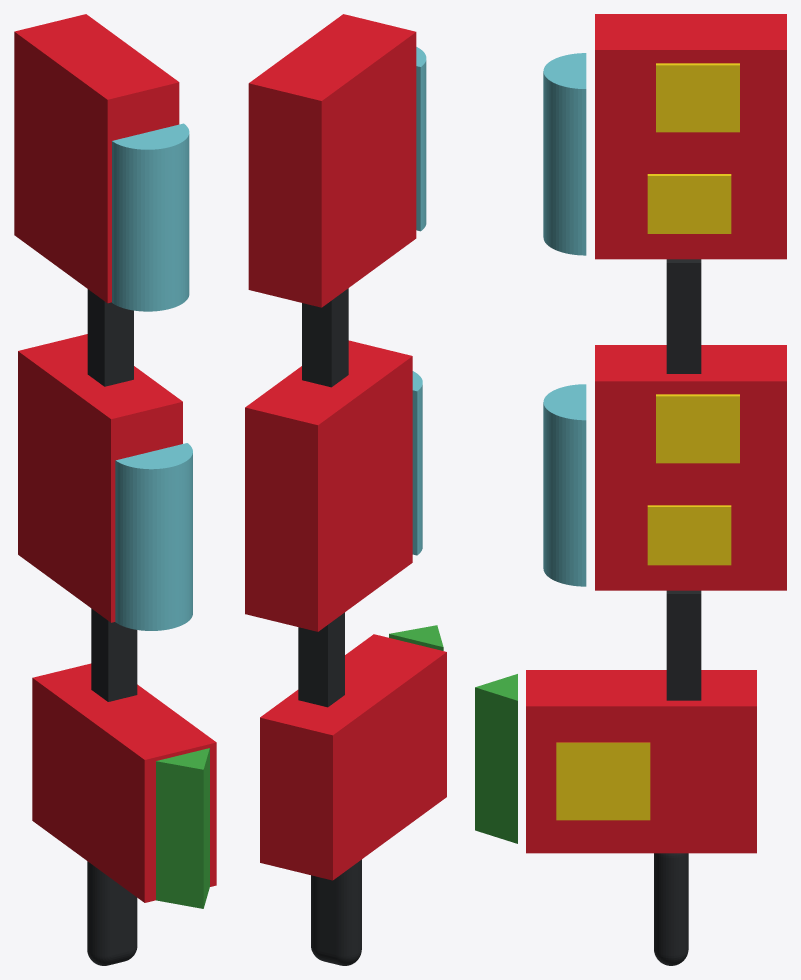
Rendered from tinker.obj.
3 renders of one model, left to right at view 1: azimuth 30°, elevation 25°; view 2: azimuth 150°, elevation 25°; view 3: azimuth 270°, elevation 25°, orthographic. The views are drawn at different scales.
Visible parts, largest first — view 1: group_0_15277357, group_0_7720667, group_0_2829873, group_0_4634441; view 2: group_0_15277357, group_0_2829873, group_0_7720667, group_0_4634441; view 3: group_0_15277357, group_0_16768282, group_0_7720667, group_0_2829873, group_0_4634441.
Boxes of the visible parts, x1,y1,x2,y2 form: group_0_15277357: (14,14,216,902); group_0_7720667: (112,123,192,630); group_0_2829873: (87,289,137,965); group_0_4634441: (156,748,209,908); group_0_15277357: (245,14,446,880); group_0_2829873: (298,288,361,965); group_0_7720667: (412,47,426,555); group_0_4634441: (389,625,443,650); group_0_15277357: (526,14,786,853); group_0_16768282: (556,63,739,820); group_0_7720667: (543,53,586,586); group_0_2829873: (654,259,701,965); group_0_4634441: (475,674,517,843).
Bounding box in the file's own units: 22 × 239 × 73.
